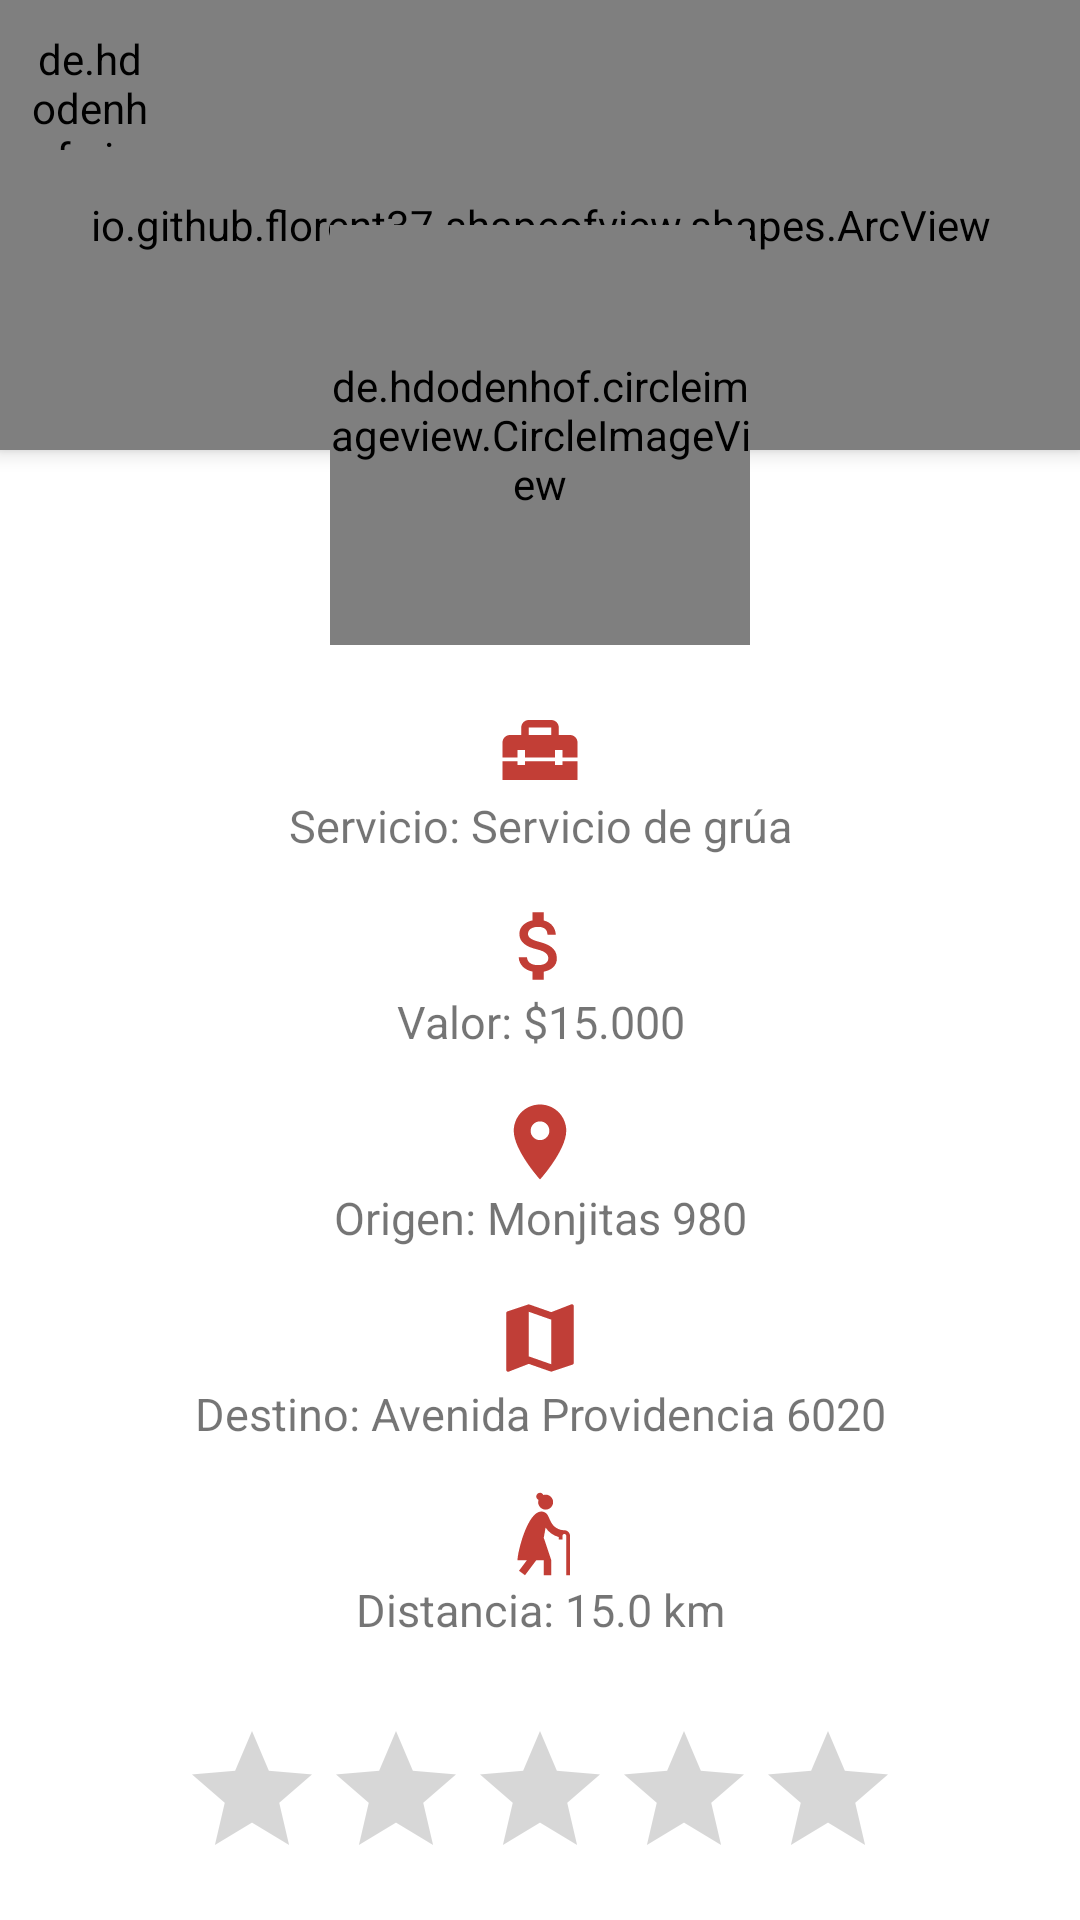

Named icons in this screenshot (1080 x 1920) and their centers, [x,y]:
mapa: [540,1338]
viejita: [543,1534]
